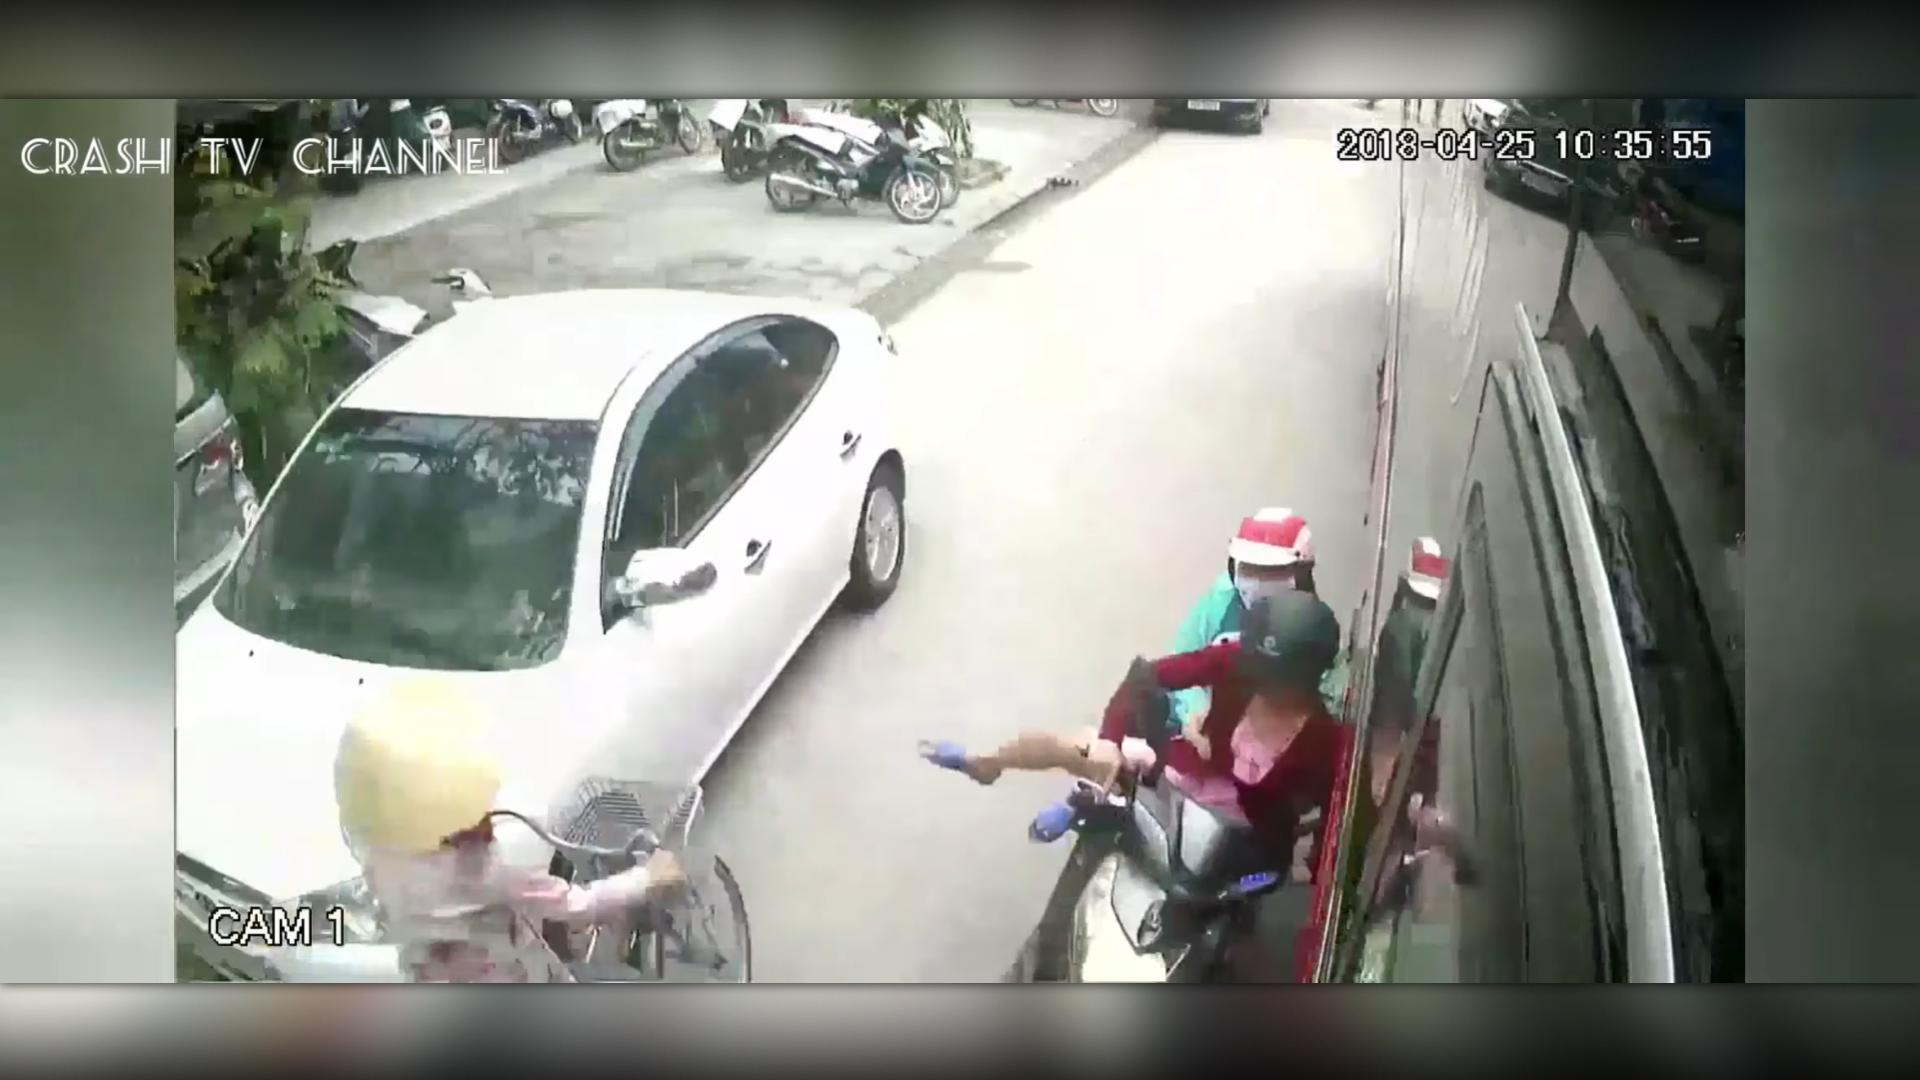accident: (862, 458, 1437, 986)
car: (167, 260, 909, 976)
